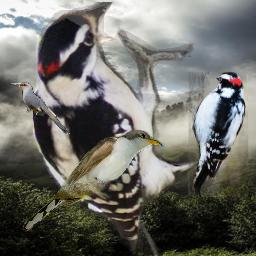Cuckoo: (20, 128, 166, 233), (10, 82, 70, 135)
Woodpecker: (33, 2, 198, 256), (186, 72, 249, 197)
